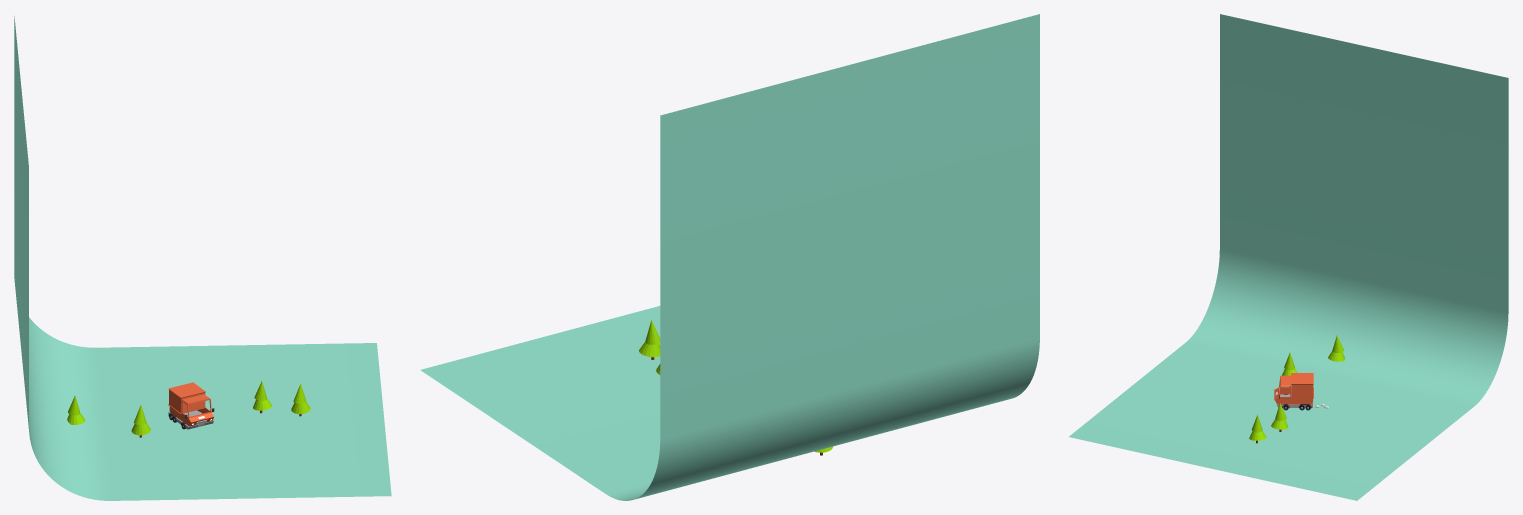
The model's file is blender-truck.gltf.
The picture shows the model from 3 angles, left to right: view 1: azimuth 30°, elevation 25°; view 2: azimuth 150°, elevation 25°; view 3: azimuth 270°, elevation 25°; orthographic projection. The views are drawn at different scales.
Visible parts, largest first — view 1: Plane, Cube; view 2: Plane; view 3: Plane, Cube.
Part boxes in pixels (x1,y1,x2,y2): Plane: (14, 16, 391, 500); Cube: (168, 382, 213, 426); Plane: (420, 14, 1039, 500); Plane: (1069, 14, 1508, 500); Cube: (1274, 373, 1313, 404).
Size of the model in its own units: 73.27 by 55.34 by 73.27.
